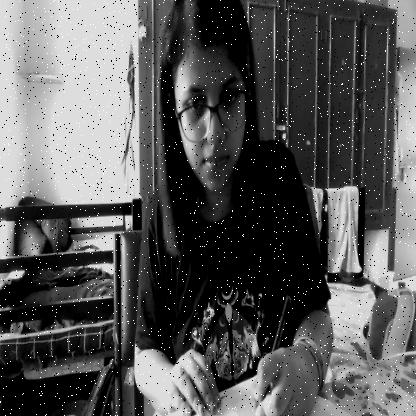Normal: (165, 0, 253, 196)
